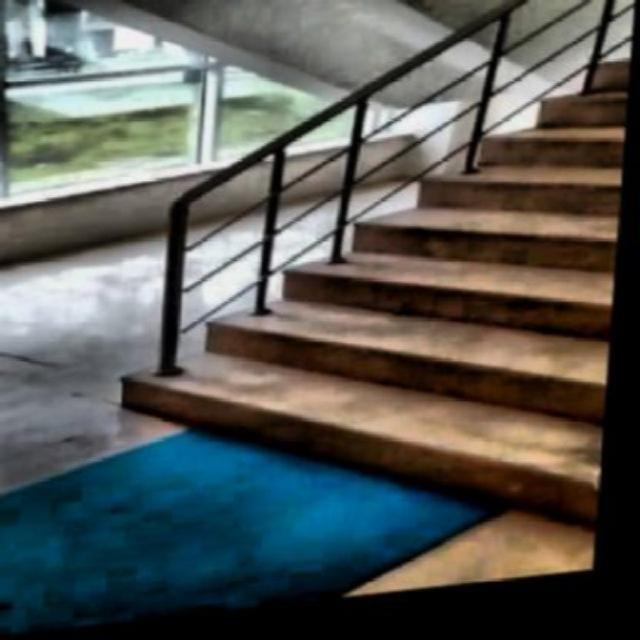stair: (94, 9, 636, 600)
